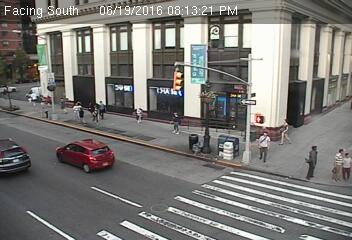neg: (72, 156, 103, 198), (324, 73, 348, 105), (9, 155, 29, 181), (38, 105, 55, 128), (185, 137, 202, 160), (39, 68, 54, 88), (220, 142, 235, 161), (25, 71, 40, 90), (210, 107, 224, 125), (12, 25, 25, 43)
pos: (297, 142, 326, 181), (324, 146, 351, 183), (251, 129, 278, 165), (272, 115, 296, 146), (164, 109, 185, 137), (68, 99, 89, 127), (335, 151, 351, 183), (129, 104, 148, 129), (83, 98, 102, 122), (91, 97, 108, 120), (54, 95, 70, 117), (74, 107, 88, 125)
